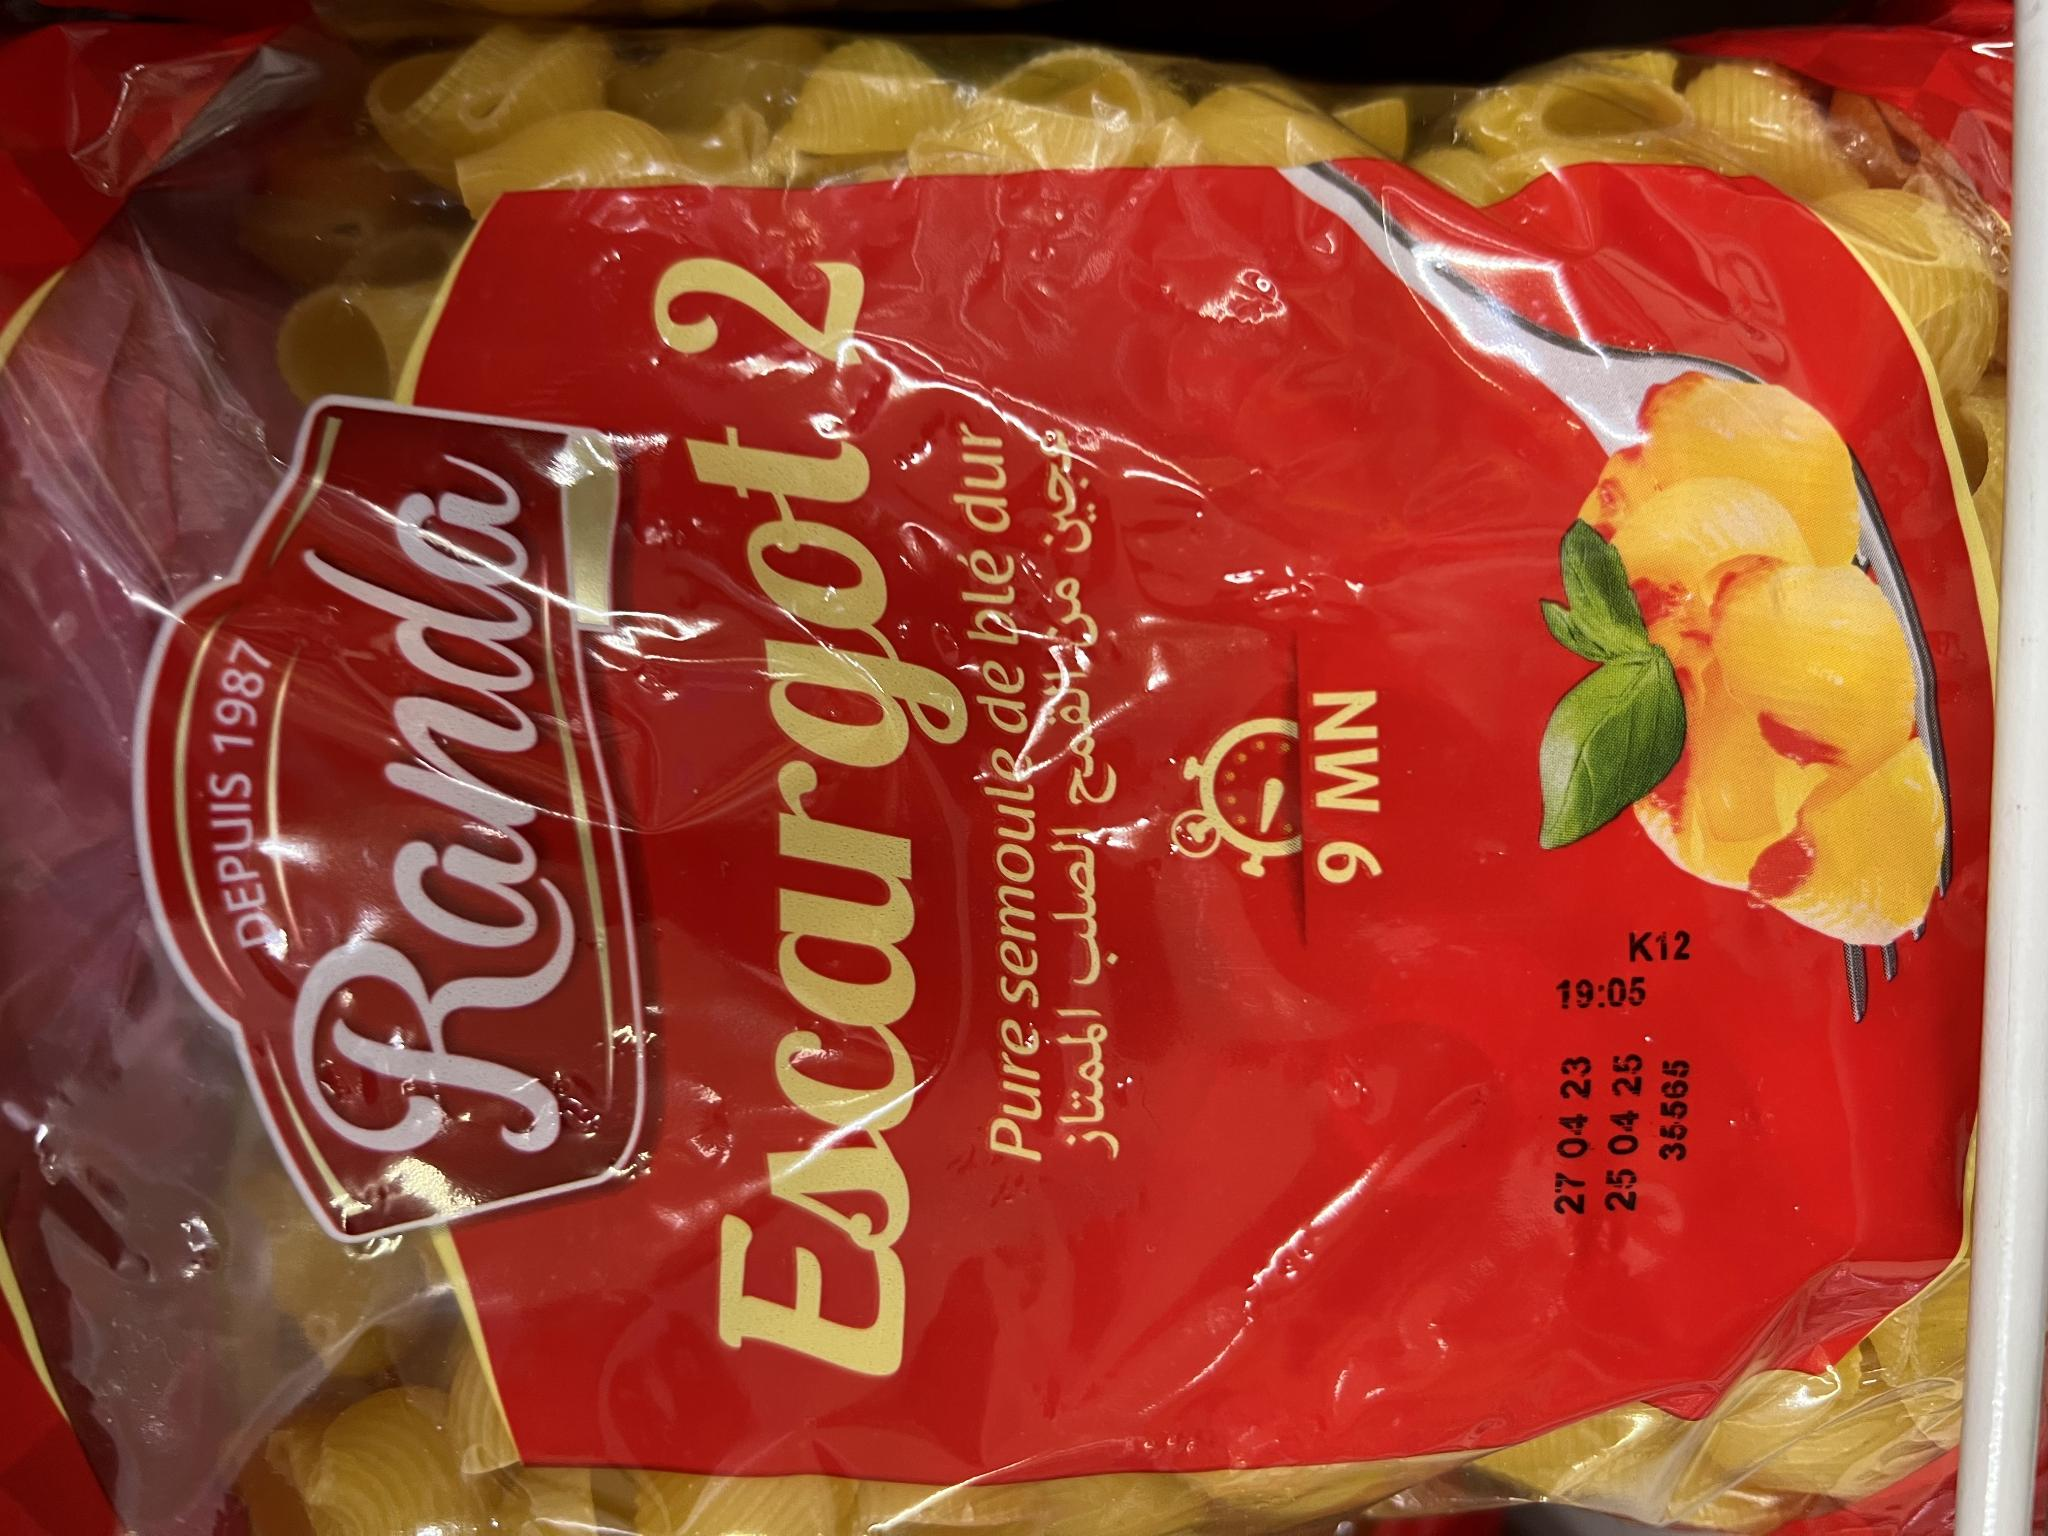Escargot: (6, 8, 2048, 1536)
